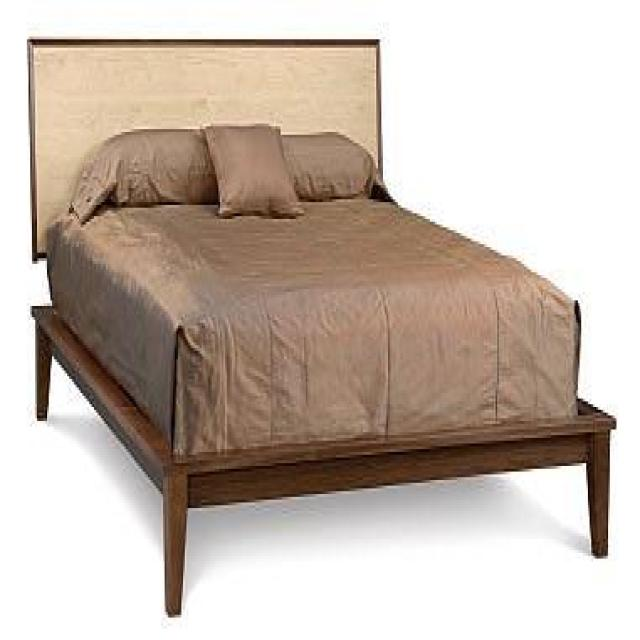bed: (25, 37, 617, 618)
